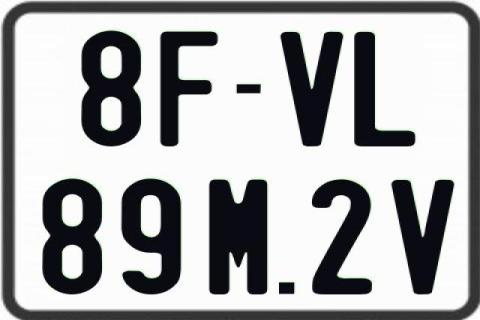0: (309, 178, 374, 296), (81, 28, 147, 144), (39, 176, 103, 292), (120, 178, 180, 298)
F: (159, 29, 221, 148)
L: (351, 31, 417, 146)
M: (208, 177, 272, 293)
V: (278, 32, 342, 150), (391, 179, 455, 296)
